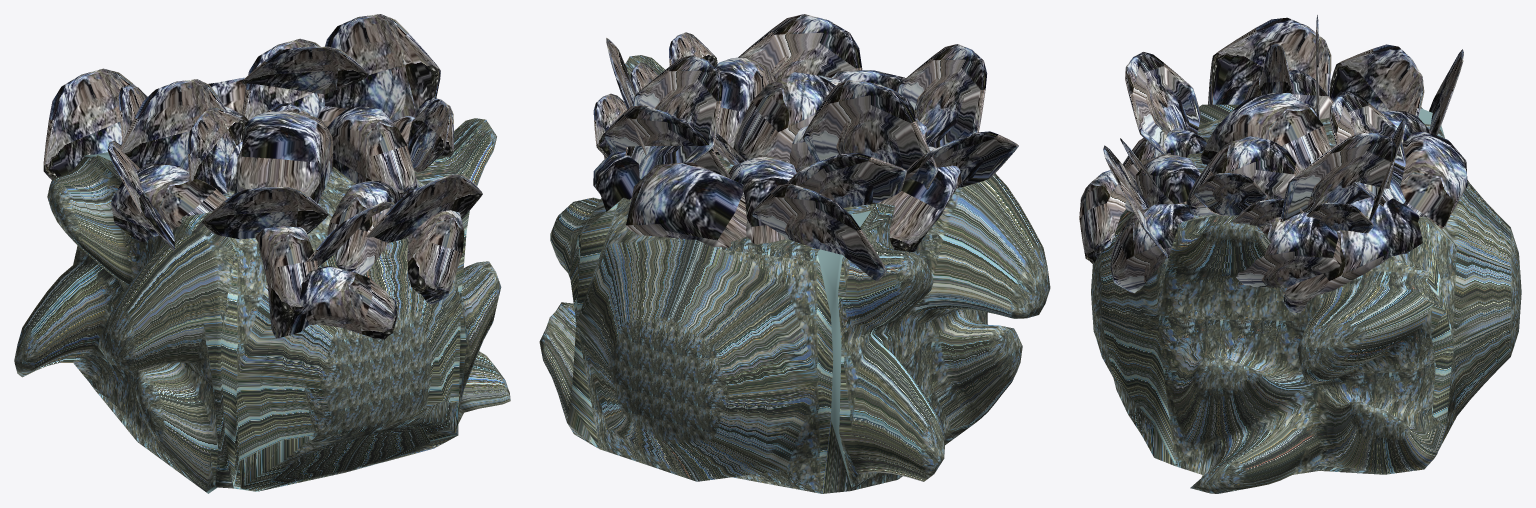
Rendered from silicio.fbx.
3 views of the same model, side by side, from view 1: azimuth 30°, elevation 25°; view 2: azimuth 150°, elevation 25°; view 3: azimuth 270°, elevation 25° (orthographic). The views are drawn at different scales.
Visible parts, largest first — view 1: pCube2, pasted__pasted__pasted__pCube1 (×8), pasted__pasted__pasted__pasted__pCube1 (×5), pasted__pasted__pasted__pasted__pasted__pasted__pCube1 (×3), pasted__pasted__pasted__pasted__pasted__pCube1 (×3), pasted__pasted__pCube1; view 2: pCube2, pasted__pasted__pasted__pasted__pCube1 (×8), pasted__pasted__pasted__pCube1 (×7), pasted__pasted__pasted__pasted__pasted__pCube1 (×3), pasted__pasted__pCube1; view 3: pCube2, pasted__pasted__pasted__pCube1 (×6), pasted__pasted__pasted__pasted__pCube1 (×9), pasted__pasted__pasted__pasted__pasted__pCube1 (×4), pasted__pasted__pasted__pasted__pasted__pasted__pCube1 (×3), pasted__pasted__pCube1.
Boxes of the visible parts, x1,y1,x2,y2 form: pCube2: (14,118,510,493); pasted__pasted__pasted__pCube1 (×8): (118,14,450,266); pasted__pasted__pasted__pasted__pCube1 (×5): (43,38,482,250); pasted__pasted__pasted__pasted__pasted__pasted__pCube1 (×3): (255,190,464,339); pasted__pasted__pasted__pasted__pasted__pCube1 (×3): (208,77,418,275); pasted__pasted__pCube1: (242,46,368,94); pCube2: (539,55,1050,493); pasted__pasted__pasted__pasted__pCube1 (×8): (593,14,1018,281); pasted__pasted__pasted__pCube1 (×7): (606,32,987,207); pasted__pasted__pasted__pasted__pasted__pCube1 (×3): (625,56,815,248); pasted__pasted__pCube1: (625,55,722,179); pCube2: (1091,104,1521,493); pasted__pasted__pasted__pCube1 (×6): (1125,43,1424,222); pasted__pasted__pasted__pasted__pCube1 (×9): (1103,17,1463,313); pasted__pasted__pasted__pasted__pasted__pCube1 (×4): (1125,132,1467,287); pasted__pasted__pasted__pasted__pasted__pasted__pCube1 (×3): (1079,127,1206,293); pasted__pasted__pCube1: (1329,91,1406,206).
Bounding box in the file's own units: 4.65 × 4.06 × 4.58.
Materials: 28 (28 with a texture image).
